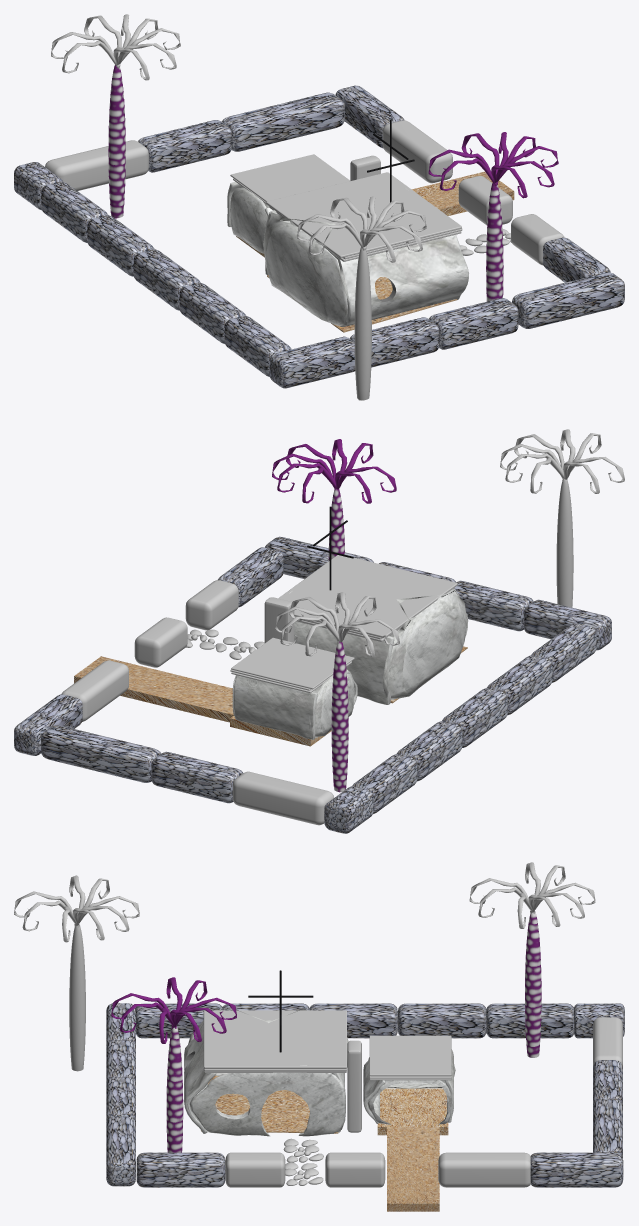
Rendered from fachadaPicapiedras.obj.
3 renders of one model, top to bottom at view 1: azimuth 30°, elevation 25°; view 2: azimuth 150°, elevation 25°; view 3: azimuth 270°, elevation 25°, orthographic. The views are drawn at different scales.
Visible parts, largest first — view 1: polySurface19 polySurface14; view 2: polySurface19 polySurface14; view 3: polySurface19 polySurface14.
Part boxes in pixels (<box>): polySurface19 polySurface14: <box>14,14,624,400</box>; polySurface19 polySurface14: <box>14,429,624,833</box>; polySurface19 polySurface14: <box>14,862,624,1211</box>.
Size of what is drawn, in the model's own units: 287 by 153 by 419.
